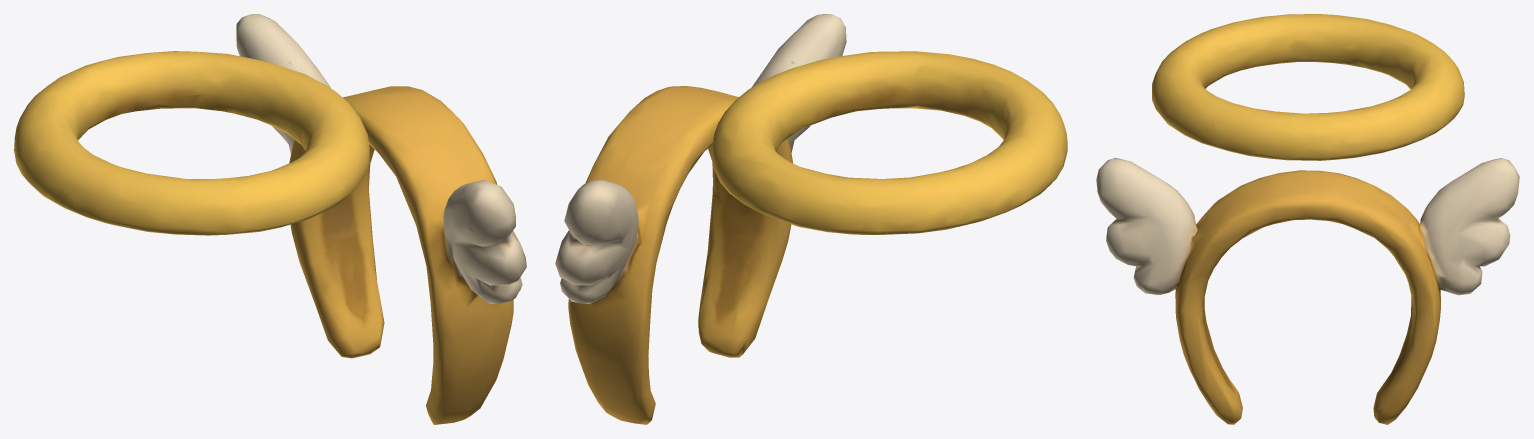
The model's file is hat-halo.glb.
The picture shows the model from 3 angles, left to right: view 1: azimuth 30°, elevation 25°; view 2: azimuth 150°, elevation 25°; view 3: azimuth 270°, elevation 25°; orthographic projection. The views are drawn at different scales.
Parts seen in each view (by area): view 1: tripo_node_2349b68d-264d-4e15-8960-bc4cc1e8e020; view 2: tripo_node_2349b68d-264d-4e15-8960-bc4cc1e8e020; view 3: tripo_node_2349b68d-264d-4e15-8960-bc4cc1e8e020.
Boxes of the visible parts, left/top/right/bottom form: tripo_node_2349b68d-264d-4e15-8960-bc4cc1e8e020: left=14, top=14, right=526, bottom=424; tripo_node_2349b68d-264d-4e15-8960-bc4cc1e8e020: left=555, top=14, right=1067, bottom=424; tripo_node_2349b68d-264d-4e15-8960-bc4cc1e8e020: left=1096, top=14, right=1519, bottom=424.
Bounding box in the file's own units: 0.9106 × 0.6961 × 1.
Materials: 1 (1 with a texture image).
